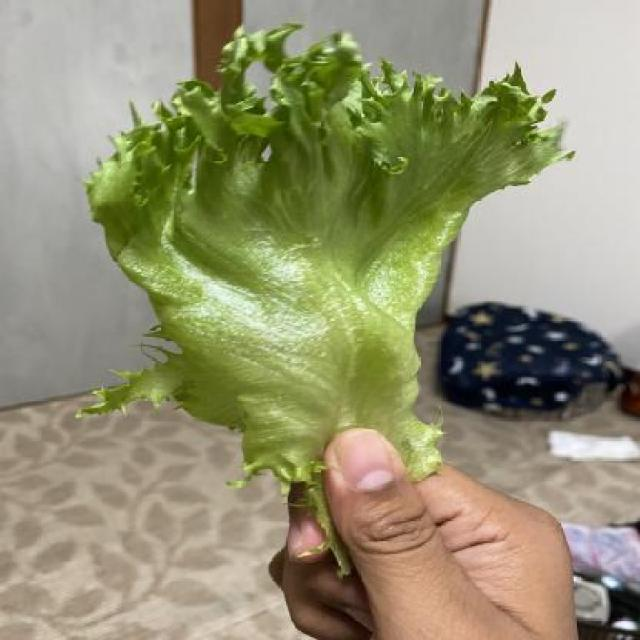lettuce: (76, 18, 582, 579)
